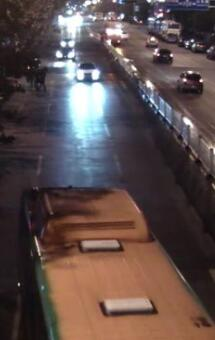bus: (18, 185, 211, 338), (158, 17, 182, 40)
car: (173, 68, 205, 96), (73, 62, 103, 86), (149, 46, 175, 63), (53, 47, 78, 61), (58, 35, 76, 49)
